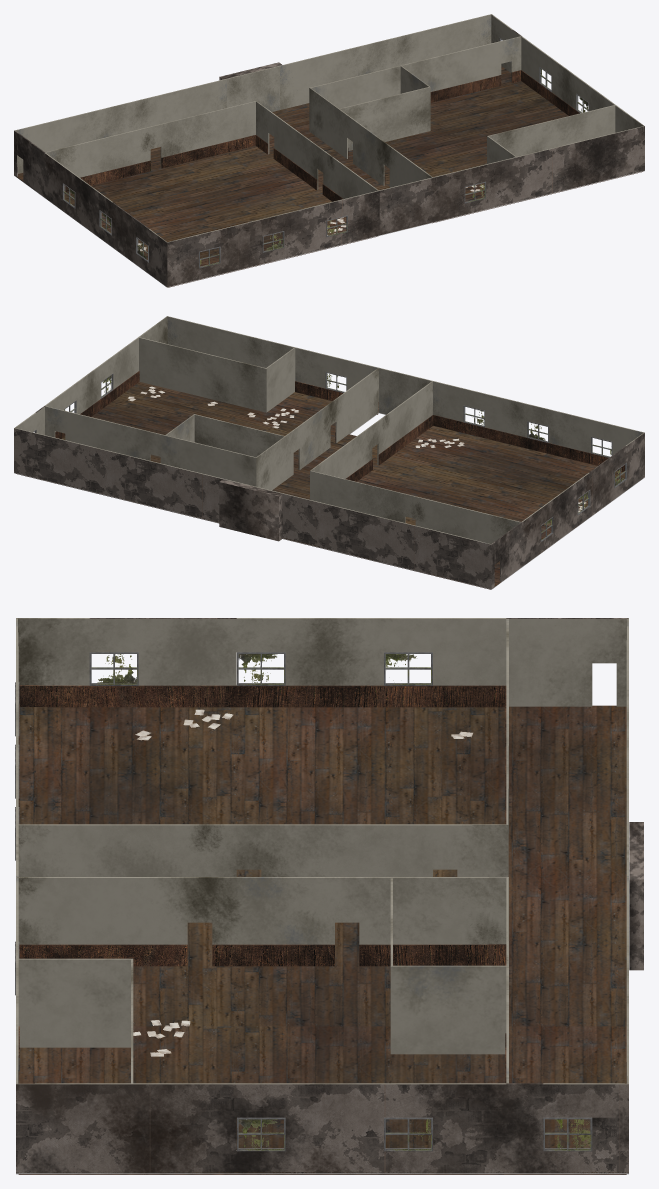
The model's file is school2f.fbx.
3 views of the same model, one above another, from view 1: azimuth 30°, elevation 25°; view 2: azimuth 150°, elevation 25°; view 3: azimuth 270°, elevation 25° (orthographic). The views are drawn at different scales.
Visible parts, largest first — view 1: 건물벽, 내부벽, 바닥, 창, 1층천장; view 2: 건물벽, 내부벽, 바닥, 건물, 창, 1층천장, 종이; view 3: 바닥, 건물벽, 내부벽, 창, 건물, 1층천장, 종이.
Boxes of the visible parts, bbox=[...] form: 건물벽: bbox=[14, 14, 644, 286]; 내부벽: bbox=[45, 36, 615, 201]; 바닥: bbox=[14, 66, 627, 286]; 창: bbox=[62, 38, 588, 268]; 1층천장: bbox=[14, 170, 644, 287]; 건물벽: bbox=[14, 316, 644, 588]; 내부벽: bbox=[45, 337, 520, 544]; 바닥: bbox=[27, 382, 624, 587]; 건물: bbox=[219, 479, 282, 541]; 창: bbox=[33, 372, 626, 541]; 1층천장: bbox=[14, 413, 644, 589]; 종이: bbox=[128, 386, 586, 512]; 바닥: bbox=[16, 705, 628, 1173]; 건물벽: bbox=[16, 618, 628, 1173]; 내부벽: bbox=[17, 619, 508, 1083]; 창: bbox=[15, 652, 592, 1151]; 건물: bbox=[629, 822, 643, 970]; 1층천장: bbox=[16, 1173, 628, 1174]; 종이: bbox=[133, 709, 472, 1056].
Bounding box in the file's own units: 4509 × 413 × 2565.
